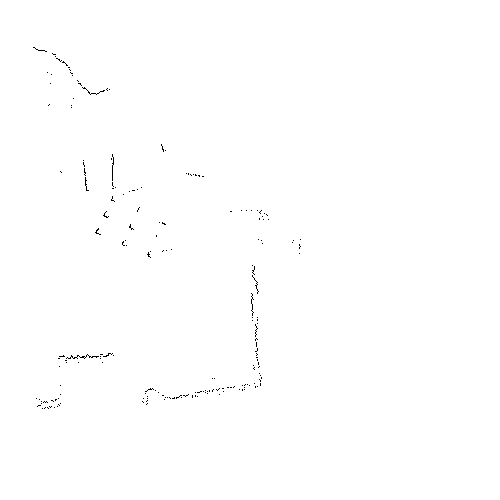pallet: (94, 196, 166, 259)
